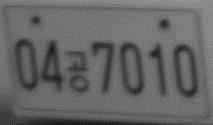0: (118, 41, 145, 94), (13, 37, 39, 90), (173, 44, 199, 97)
1: (146, 42, 171, 96)
4: (39, 38, 66, 92)
7: (89, 40, 116, 94)
공: (65, 49, 90, 92)
